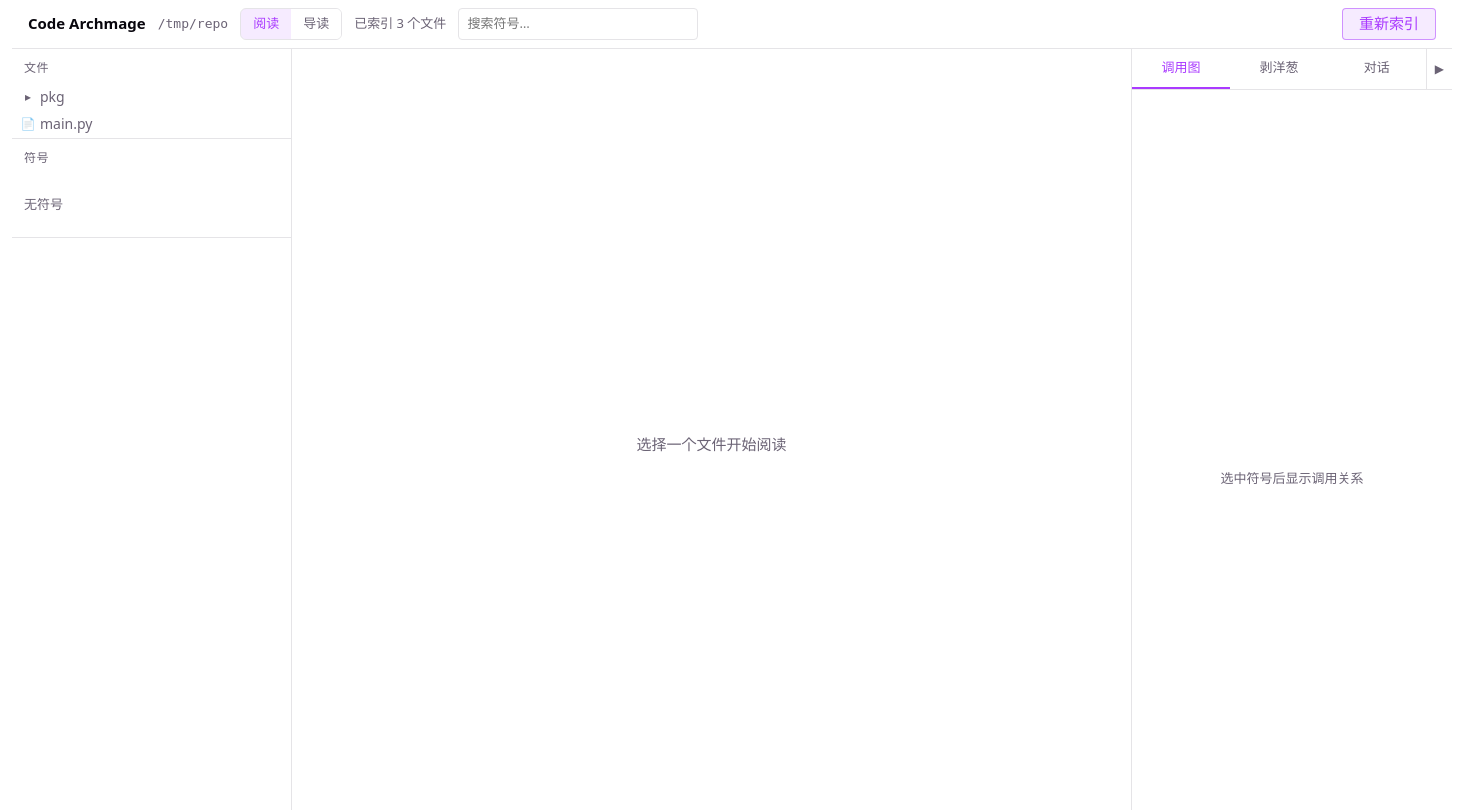
Test: App — 已索引 + 选文件 + 大纲 › 文件树可见 + 点文件 → CodeView 挂载 + 大纲可见
Click the text "main.py" at (66, 124), box [40,113,92,135]
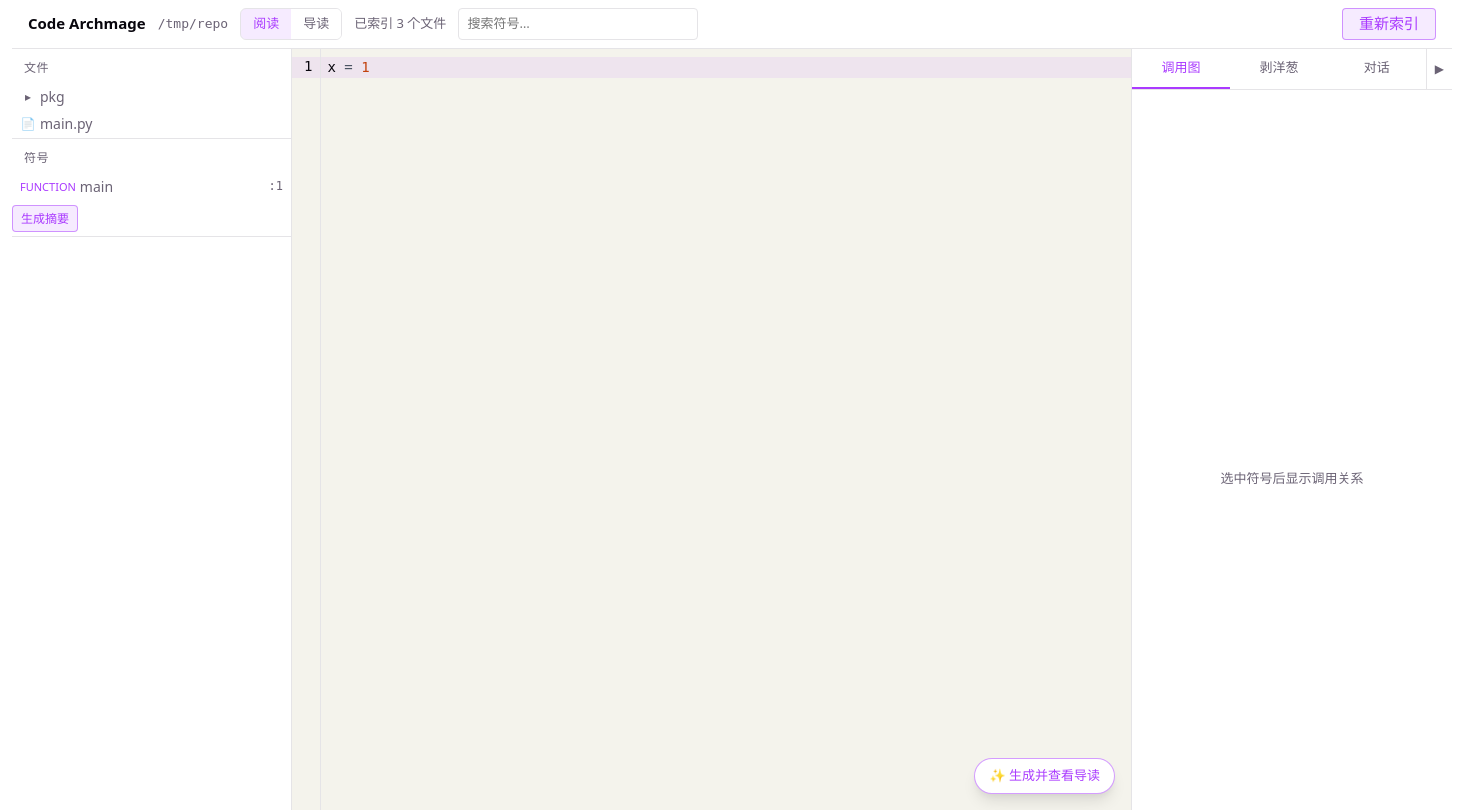
Now the field with class "cm-content" is shown, box [321,57,1131,78]
Now the text "main" is shown, box [80,176,113,198]
